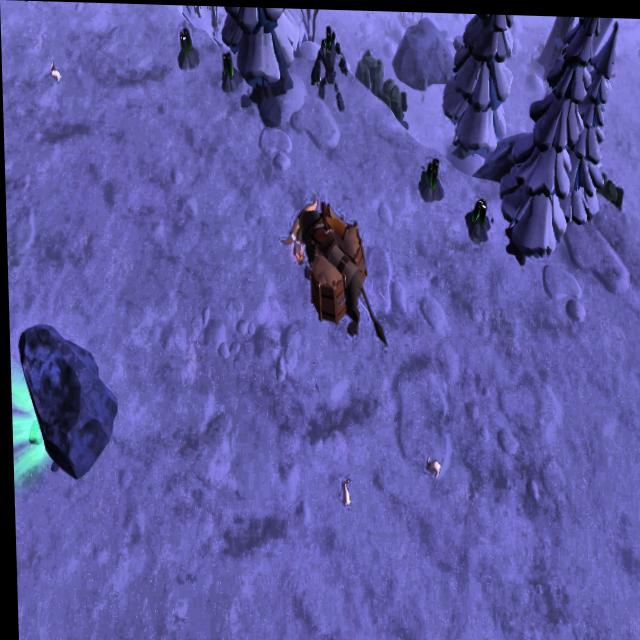depletedmobOre_t3: (307, 21, 349, 104)
ore_t3: (418, 147, 442, 194), (465, 188, 489, 233), (216, 45, 238, 90), (175, 22, 194, 67)
rock_t3: (353, 42, 383, 98), (380, 73, 409, 124), (594, 171, 624, 205)
